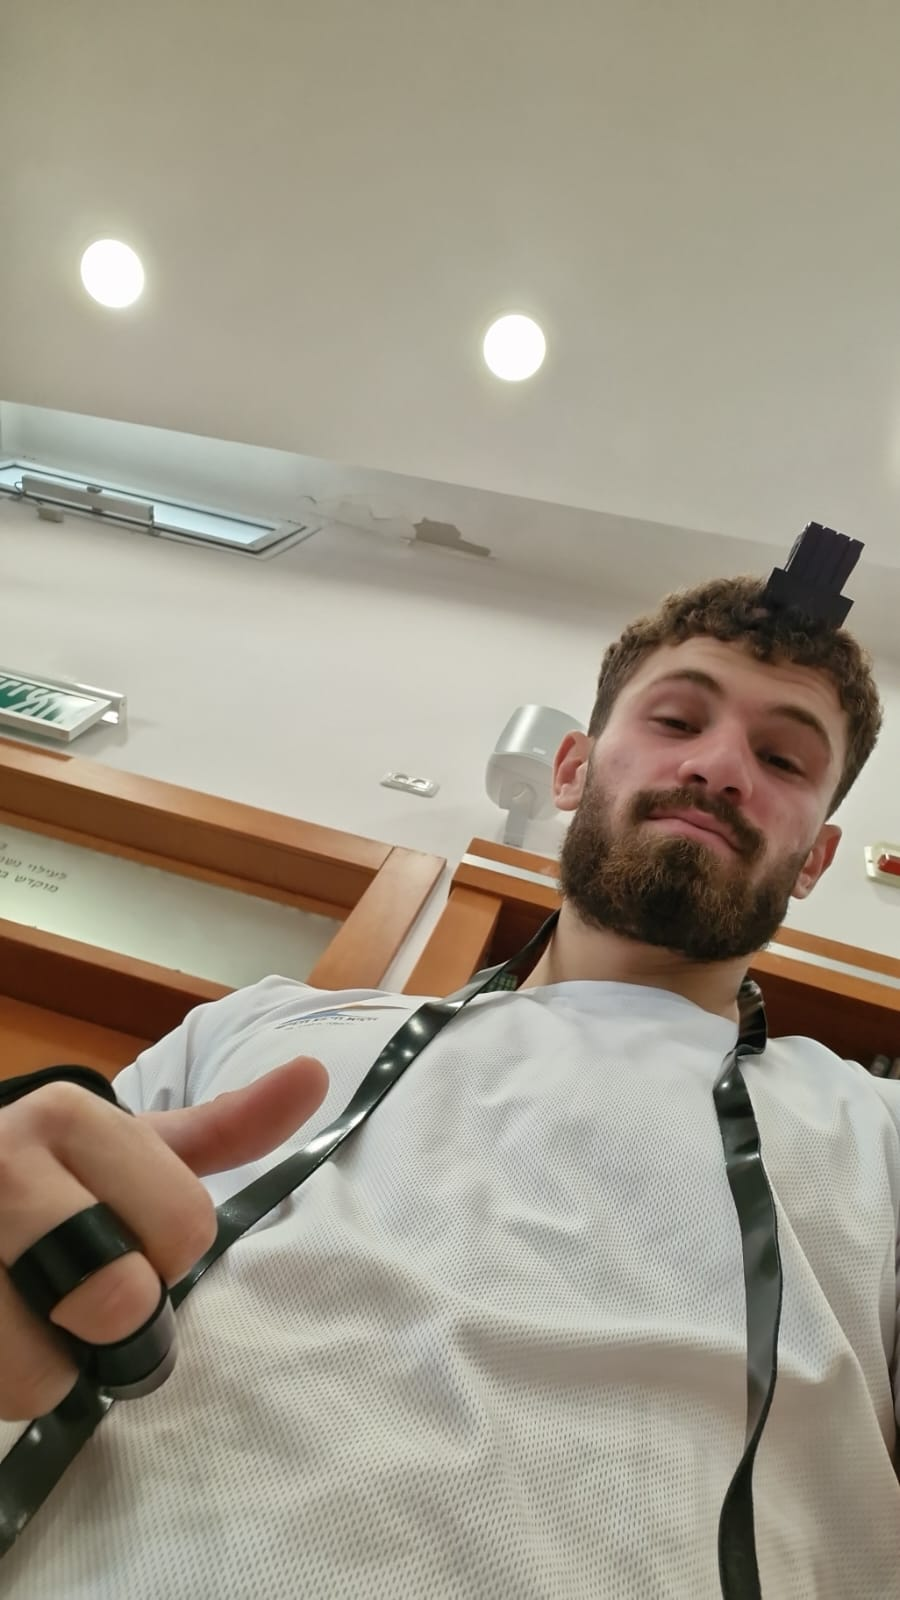tefillin: (763, 523, 861, 633)
